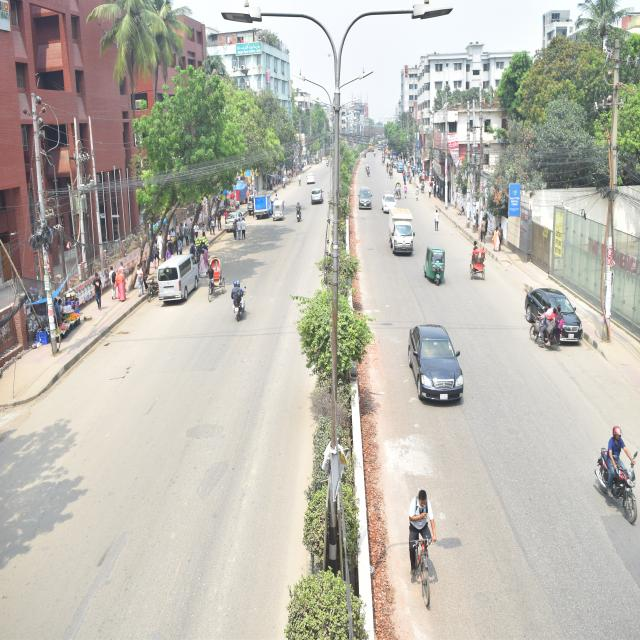car: (393, 300, 463, 428), (513, 270, 602, 369), (349, 178, 376, 226), (219, 206, 249, 242), (378, 182, 394, 215), (306, 185, 324, 212), (246, 186, 256, 226), (304, 169, 318, 194)
microbus: (157, 241, 199, 332)
motorbike: (585, 419, 640, 538), (518, 306, 577, 369), (227, 264, 246, 333), (289, 192, 308, 238)
pickup-van: (388, 201, 427, 273), (254, 187, 276, 225)
